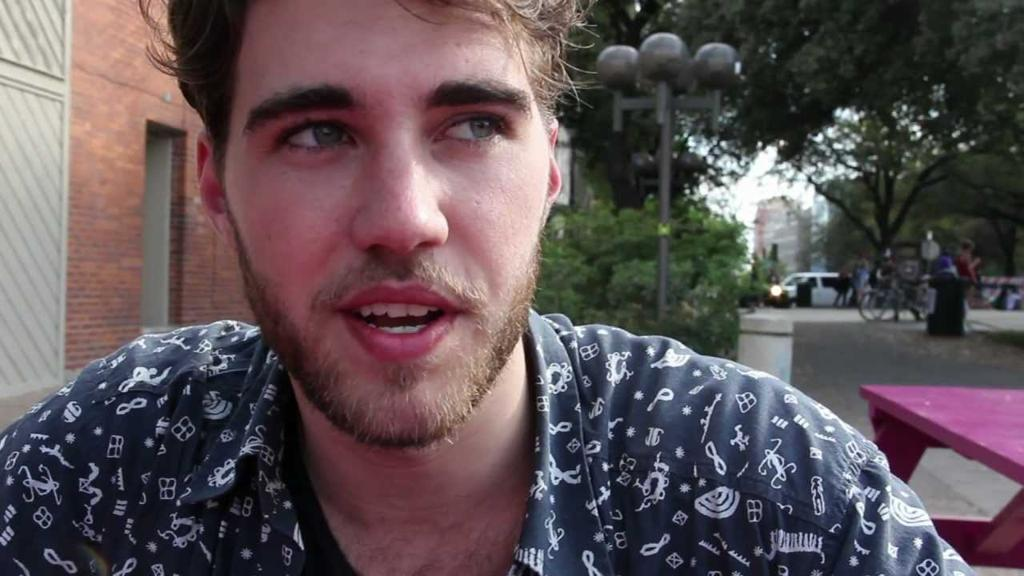face: (254, 18, 546, 438)
